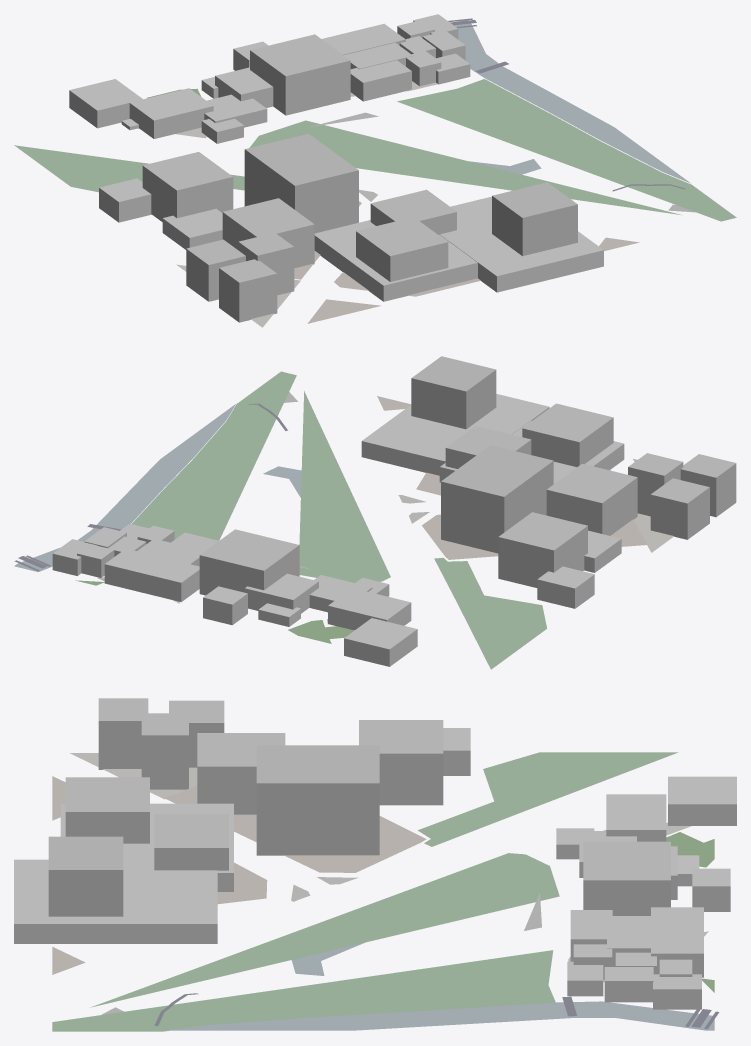
Rendered from 134_105_mid.glb.
3 views of the same model, one above another, from view 1: azimuth 30°, elevation 25°; view 2: azimuth 150°, elevation 25°; view 3: azimuth 270°, elevation 25° (orthographic). The views are drawn at different scales.
Bounding box in the file's own units: 517 × 61.67 × 546.
